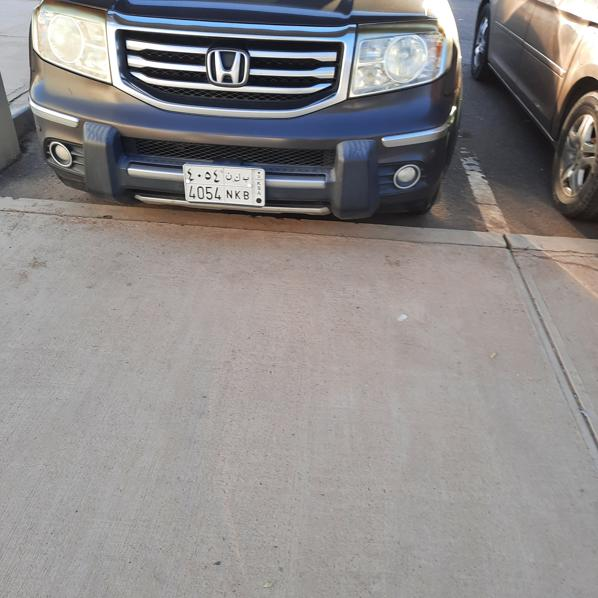numberplate: (184, 165, 265, 205)
